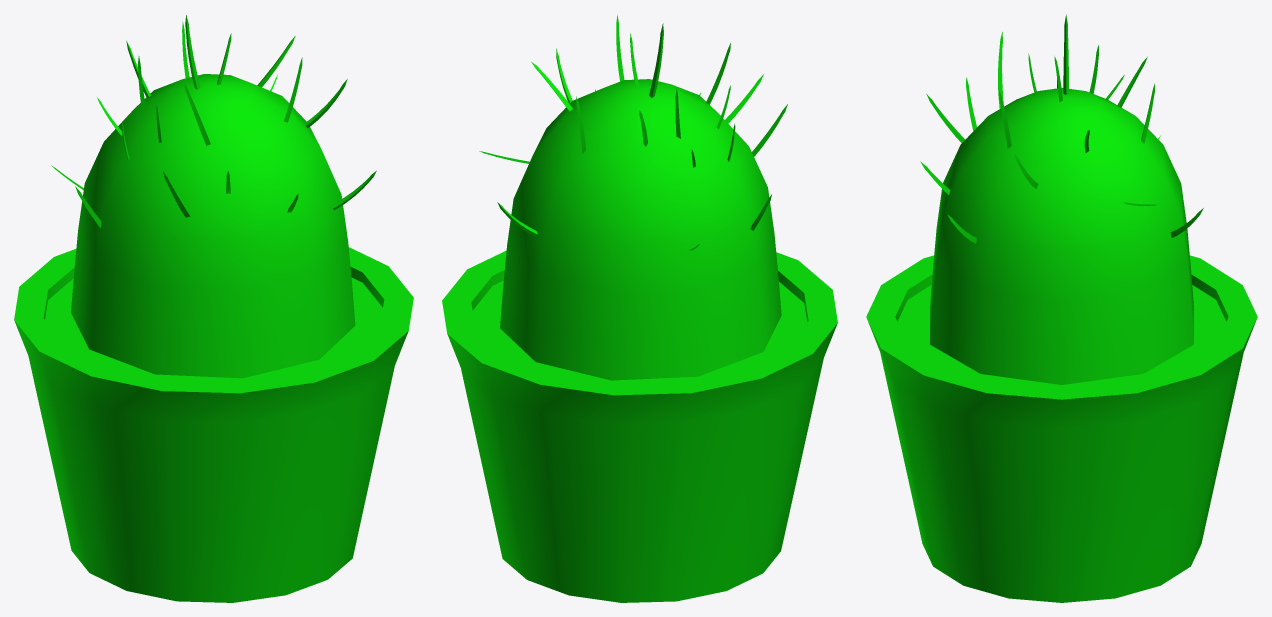
The model's file is cactus.fbx.
3 views of the same model, side by side, from view 1: azimuth 30°, elevation 25°; view 2: azimuth 150°, elevation 25°; view 3: azimuth 270°, elevation 25° (orthographic). The views are drawn at different scales.
Visible parts, largest first — view 1: pTorus3; view 2: pTorus3; view 3: pTorus3.
Boxes of the visible parts, x1,y1,x2,y2 form: pTorus3: [14, 15, 413, 602]; pTorus3: [442, 14, 837, 602]; pTorus3: [866, 14, 1257, 602].
Size of the model in its own units: 36.88 by 53.82 by 36.88.
